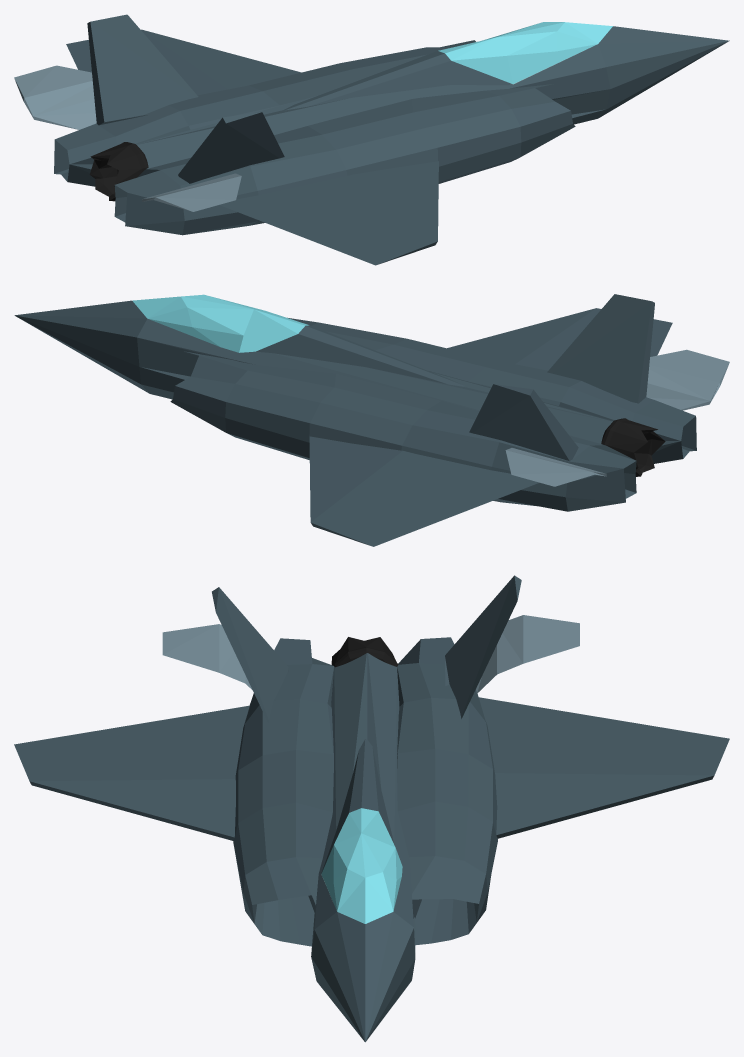
3 views of the same model, one above another, from view 1: azimuth 30°, elevation 25°; view 2: azimuth 150°, elevation 25°; view 3: azimuth 270°, elevation 25° (orthographic). The views are drawn at different scales.
Visible parts, largest first — view 1: mesh_662500762, mesh_1618128002, mesh_1994996710, mesh_437099514, mesh_1341907249, mesh_683550565, mesh_649644618, mesh_1822988405, mesh_1355313167, mesh_1291941644, mesh_1738328882, mesh_570284500; view 2: mesh_1994996710, mesh_1822988405, mesh_662500762, mesh_1341907249, mesh_437099514, mesh_1355313167, mesh_649644618, mesh_683550565, mesh_1618128002, mesh_570284500, mesh_1738328882, mesh_1291941644; view 3: mesh_1994996710, mesh_662500762, mesh_1822988405, mesh_1618128002, mesh_1341907249, mesh_649644618, mesh_437099514, mesh_683550565, mesh_1355313167, mesh_1291941644, mesh_570284500, mesh_1738328882.
Part boxes in pixels (<box>): mesh_662500762: <box>114,84,575,235</box>; mesh_1618128002: <box>219,161,438,265</box>; mesh_1994996710: <box>54,40,475,186</box>; mesh_437099514: <box>284,22,612,110</box>; mesh_1341907249: <box>136,44,610,168</box>; mesh_683550565: <box>87,14,198,125</box>; mesh_649644618: <box>598,26,729,117</box>; mesh_1822988405: <box>66,29,301,95</box>; mesh_1355313167: <box>178,112,284,183</box>; mesh_1291941644: <box>14,65,96,129</box>; mesh_1738328882: <box>89,142,148,201</box>; mesh_570284500: <box>142,173,241,211</box>; mesh_1994996710: <box>170,351,636,511</box>; mesh_1822988405: <box>309,436,538,546</box>; mesh_662500762: <box>287,317,696,463</box>; mesh_1341907249: <box>137,319,613,443</box>; mesh_437099514: <box>132,294,464,386</box>; mesh_1355313167: <box>547,294,654,403</box>; mesh_649644618: <box>14,300,148,393</box>; mesh_683550565: <box>469,384,578,461</box>; mesh_1618128002: <box>447,308,672,370</box>; mesh_570284500: <box>646,349,729,410</box>; mesh_1738328882: <box>601,418,665,476</box>; mesh_1291941644: <box>505,448,606,486</box>; mesh_1994996710: <box>397,637,497,945</box>; mesh_662500762: <box>233,638,334,946</box>; mesh_1822988405: <box>479,697,729,838</box>; mesh_1618128002: <box>14,705,249,840</box>; mesh_1341907249: <box>311,653,415,953</box>; mesh_649644618: <box>311,912,415,1042</box>; mesh_437099514: <box>321,739,402,923</box>; mesh_683550565: <box>445,575,521,718</box>; mesh_1355313167: <box>212,587,288,723</box>; mesh_1291941644: <box>476,615,579,693</box>; mesh_570284500: <box>162,624,252,689</box>; mesh_1738328882: <box>331,637,398,667</box>.
Bounding box in the file's own units: 428 × 98 × 350.
